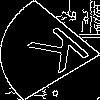K: (25, 25, 100, 82)
